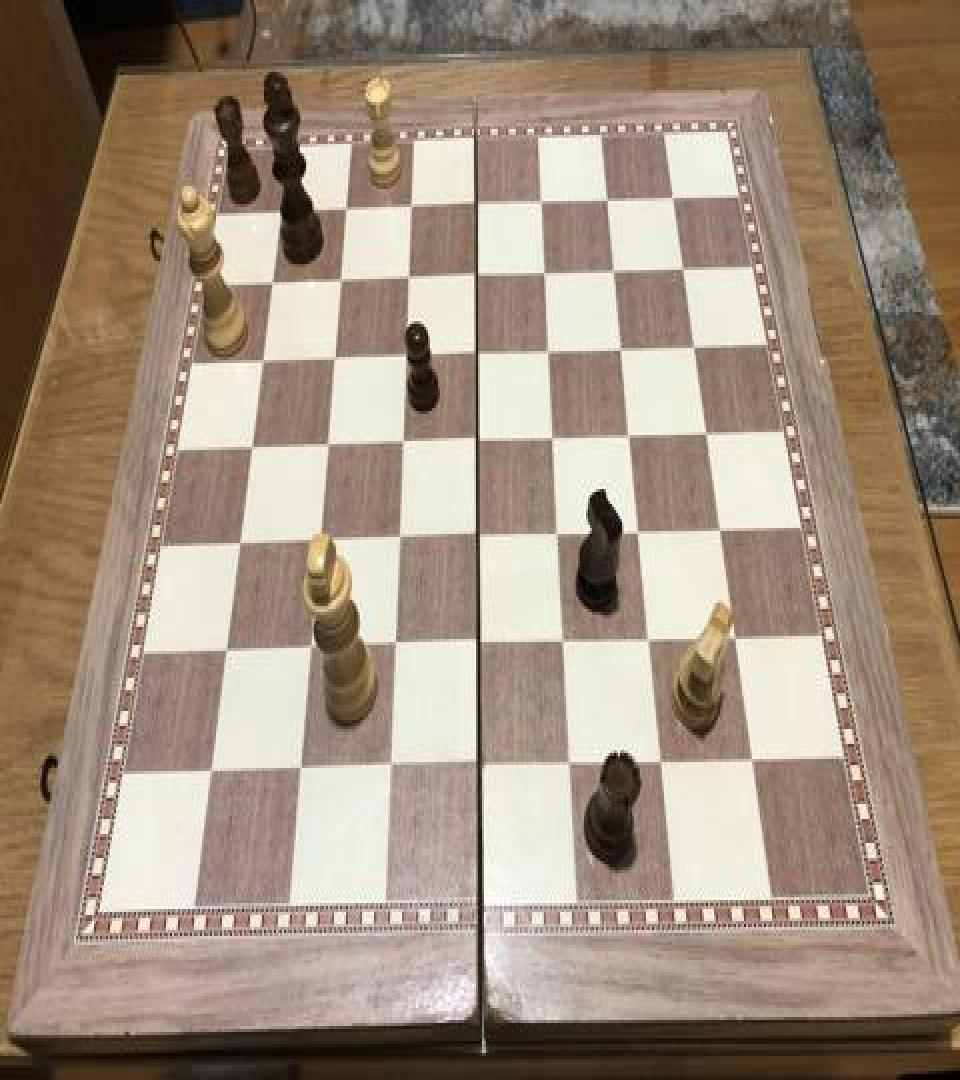xcorner: (298, 631, 322, 668), (651, 742, 675, 779), (199, 754, 223, 791), (662, 178, 686, 214), (596, 182, 620, 218), (530, 184, 554, 220), (399, 189, 423, 225), (334, 192, 358, 228), (269, 195, 293, 231), (672, 249, 696, 285), (603, 252, 627, 288), (534, 255, 558, 291), (465, 258, 489, 294), (397, 261, 421, 297), (328, 264, 352, 300), (260, 266, 284, 302), (611, 330, 635, 366), (538, 333, 562, 369), (466, 336, 490, 372), (394, 339, 418, 375), (322, 342, 346, 378), (696, 414, 720, 450), (619, 417, 643, 453), (543, 420, 567, 456), (466, 423, 490, 459), (390, 424, 414, 460), (315, 428, 339, 464), (710, 512, 734, 548), (628, 513, 652, 549), (548, 516, 572, 552), (467, 519, 491, 555), (387, 522, 411, 558), (307, 524, 331, 560), (228, 526, 252, 562), (725, 620, 749, 656), (639, 621, 663, 657), (553, 624, 577, 660), (468, 627, 492, 663), (383, 628, 407, 664), (214, 634, 238, 670), (742, 741, 766, 777), (559, 746, 583, 782), (469, 747, 493, 783), (378, 750, 402, 786), (289, 753, 313, 789), (465, 188, 489, 223), (684, 329, 708, 364), (250, 344, 274, 379), (240, 431, 264, 466)
